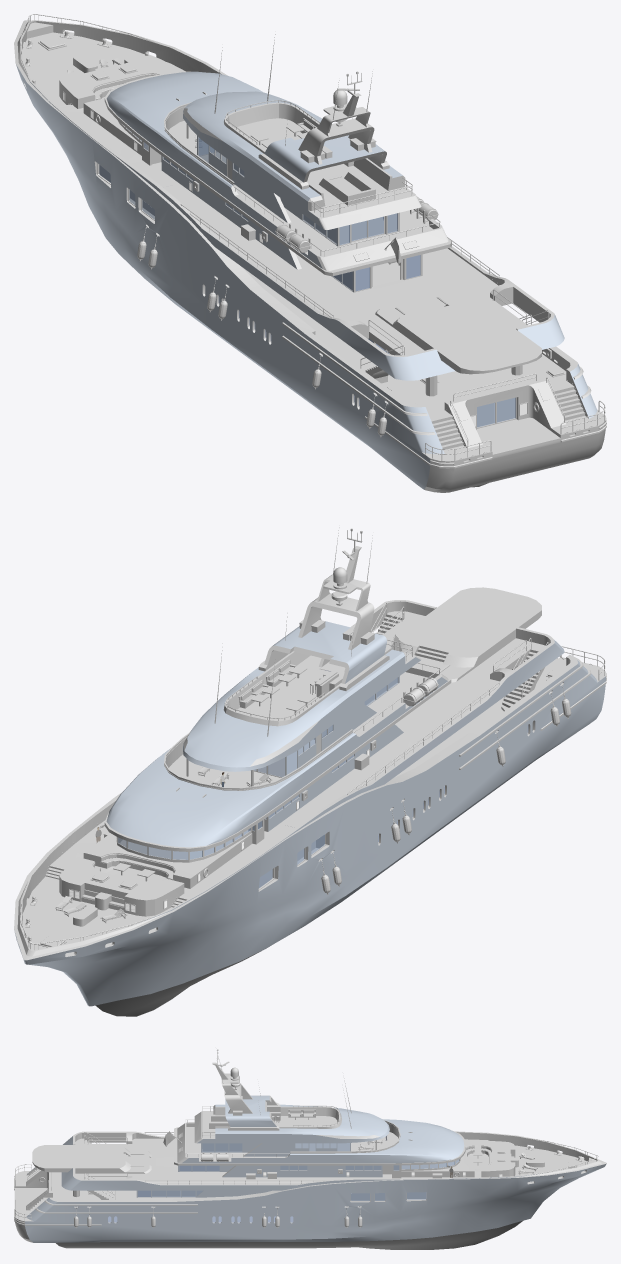
File: yacht.glb
The picture shows the model from 3 angles, top to bottom: view 1: azimuth 30°, elevation 25°; view 2: azimuth 150°, elevation 25°; view 3: azimuth 270°, elevation 25°; orthographic projection. The views are drawn at different scales.
Parts seen in each view (by area): view 1: Material2 (×2), Material3 (×3); view 2: Material3 (×3), Material2 (×2); view 3: Material3 (×4), Material2 (×2).
Part boxes in pixels (bbox=[...]): Material2 (×2): bbox=[14, 14, 606, 492]; Material3 (×3): bbox=[16, 64, 597, 489]; Material3 (×3): bbox=[14, 621, 605, 1016]; Material2 (×2): bbox=[14, 527, 606, 960]; Material3 (×4): bbox=[25, 1095, 606, 1249]; Material2 (×2): bbox=[14, 1049, 606, 1242].
Bounding box in the file's own units: 679 × 1141 × 3068.
